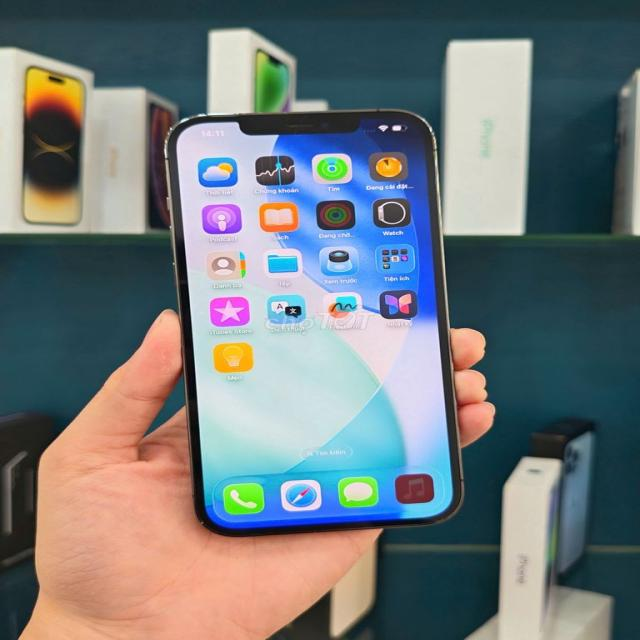gen_12_13: (155, 106, 452, 538)
